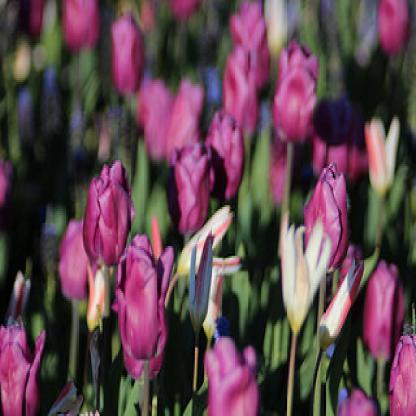TULIP: (78, 31, 404, 402)
